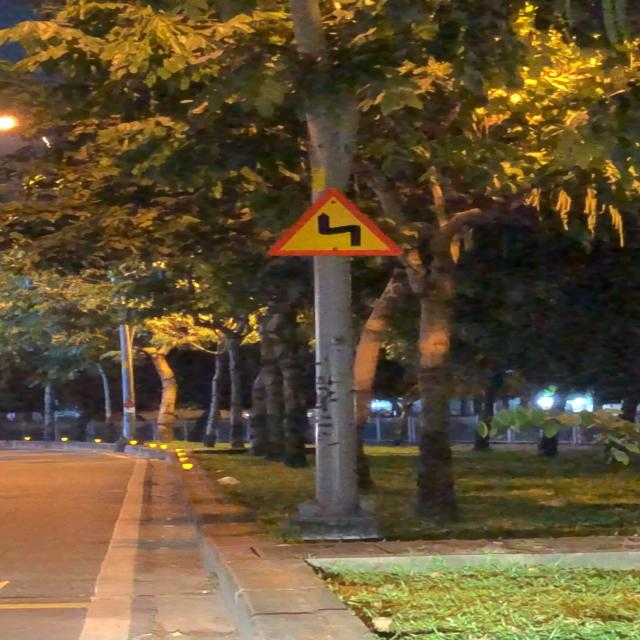Bien bao nhieu cho ngoat nguy hiem lien tiep: (262, 184, 411, 260)
